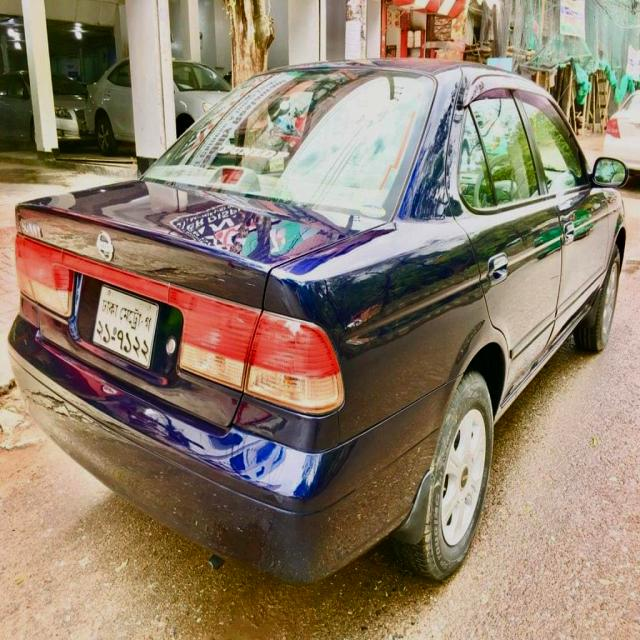blue: (4, 63, 626, 585)
silver: (0, 67, 90, 140)
white: (86, 54, 230, 132)
